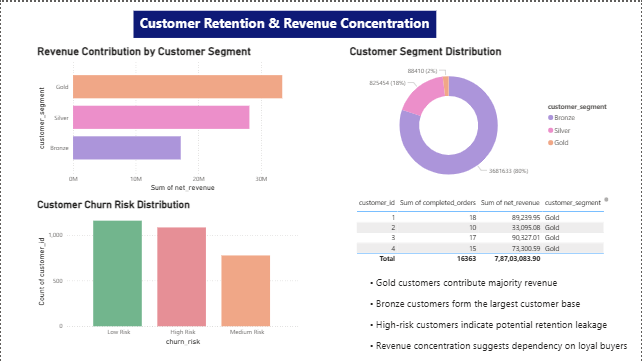

The dashboard page shown, as its layout file describes it:
{"tool":"powerbi","page":{"name":"Page 3","canvas":[1280,720],"ordinal":2},"visuals":[{"type":"donutChart","title":"Customer Segment Distribution","fields":{"Category":["vw_customer_summary.customer_segment"],"Y":["Sum(vw_customer_summary.customer_id)"]},"box":[692.5,85,540,300],"z":0},{"type":"clusteredBarChart","title":"Revenue Contribution by Customer Segment","fields":{"Y":["Sum(vw_customer_summary.net_revenue)"],"Category":["vw_customer_summary.customer_segment"]},"box":[67.5,85,532.5,300],"z":3000},{"type":"textbox","box":[264.3,17.1,605.7,54.3],"z":3001},{"type":"textbox","box":[732.5,542.5,547.5,177.5],"z":3002},{"type":"clusteredColumnChart","title":"Customer Churn Risk Distribution","fields":{"Category":["vw_customer_summary.churn_risk"],"Y":["Count(vw_customer_summary.customer_id)"]},"box":[67.5,392.5,532.5,300],"z":3003},{"type":"tableEx","fields":{"Values":["vw_customer_summary.customer_id","Sum(vw_customer_summary.completed_orders)","Sum(vw_customer_summary.net_revenue)","vw_customer_summary.customer_segment"]},"box":[705,385,515,142.5],"z":3004}]}

Visuals, with their boxes in screenshot pixels (x1, y1, x2, y2), scaled from the page's 1280x720 canvas onto the 642x361 screenshot:
"Customer Segment Distribution" donutChart: box=[347, 43, 618, 193]
"Revenue Contribution by Customer Segment" clusteredBarChart: box=[34, 43, 301, 193]
textbox: box=[133, 9, 436, 36]
textbox: box=[367, 272, 641, 360]
"Customer Churn Risk Distribution" clusteredColumnChart: box=[34, 197, 301, 347]
tableEx - vw_customer_summary.customer_id x Sum(vw_customer_summary.completed_orders): box=[354, 193, 612, 264]
